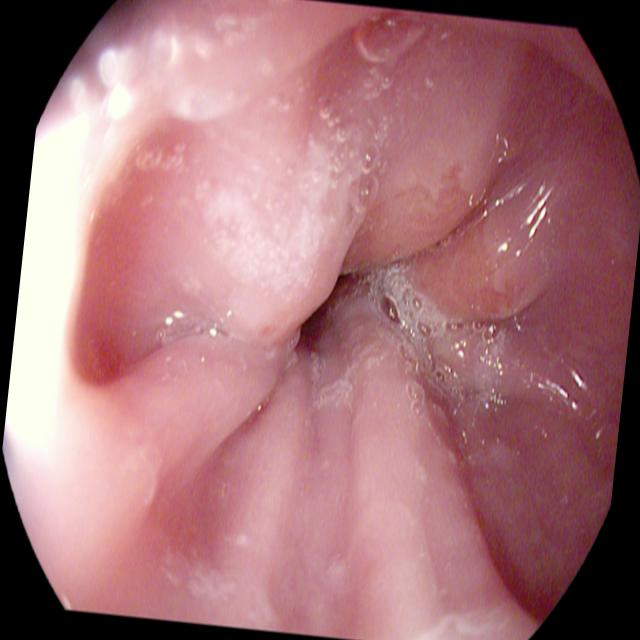Normal-Z-Line: (57, 5, 640, 640)
